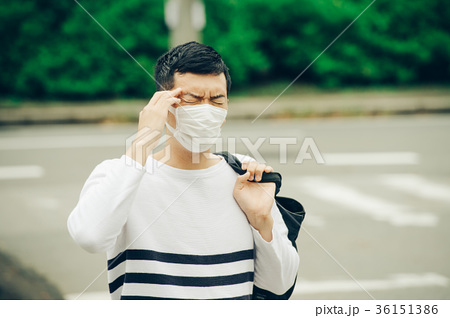mask: (175, 105, 226, 153)
